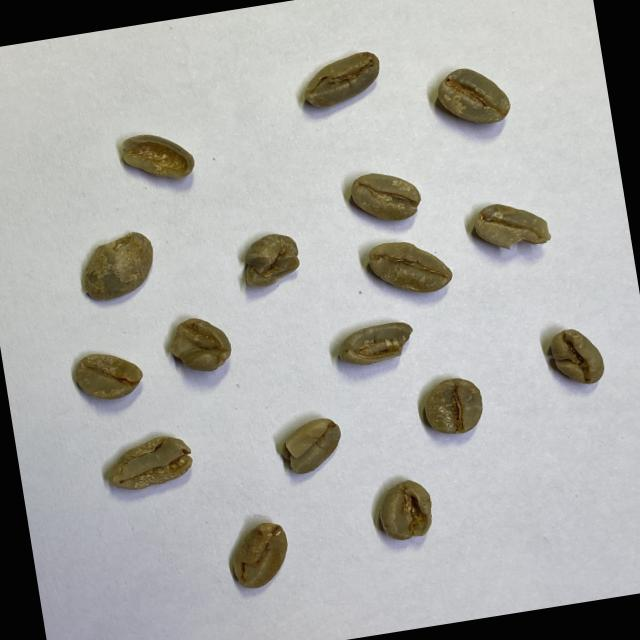bad: (75, 228, 162, 306), (298, 48, 386, 114), (104, 431, 196, 493), (116, 124, 199, 190), (224, 518, 296, 592), (472, 194, 556, 257), (163, 311, 236, 378), (276, 414, 348, 479), (372, 475, 438, 545), (546, 322, 610, 392), (334, 318, 419, 370), (236, 228, 304, 292)
good: (366, 232, 456, 302), (432, 59, 514, 134), (346, 164, 426, 229), (418, 372, 488, 440), (72, 346, 147, 406)
